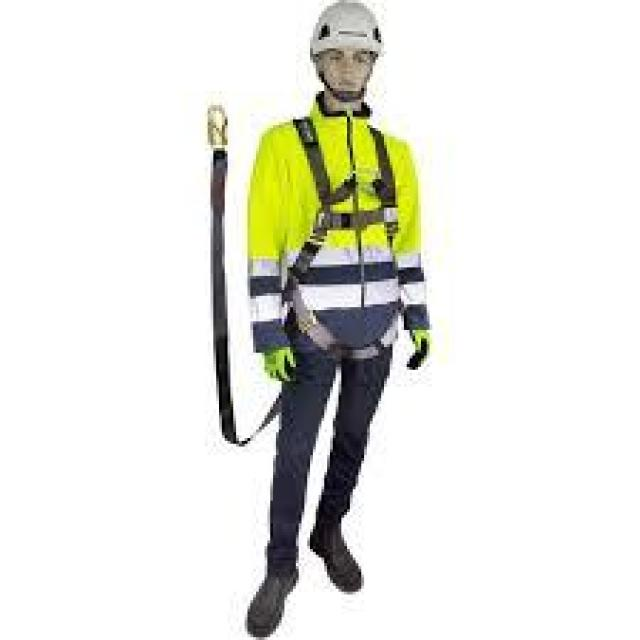Harness: (286, 117, 403, 362)
